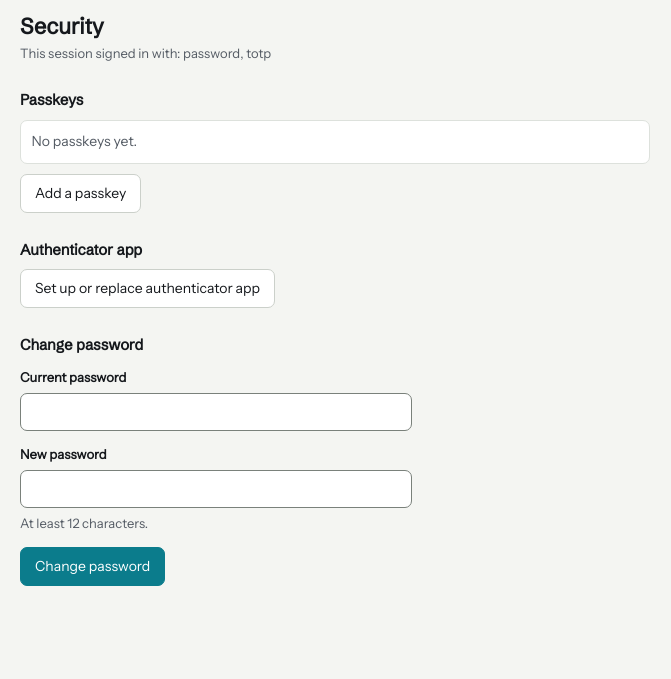
Test: gives focus back to the button that asked for re-authentication when the prompt is cancelled
Click the button "Set up or replace authenticator app": point(148, 289) [20,269,275,308]
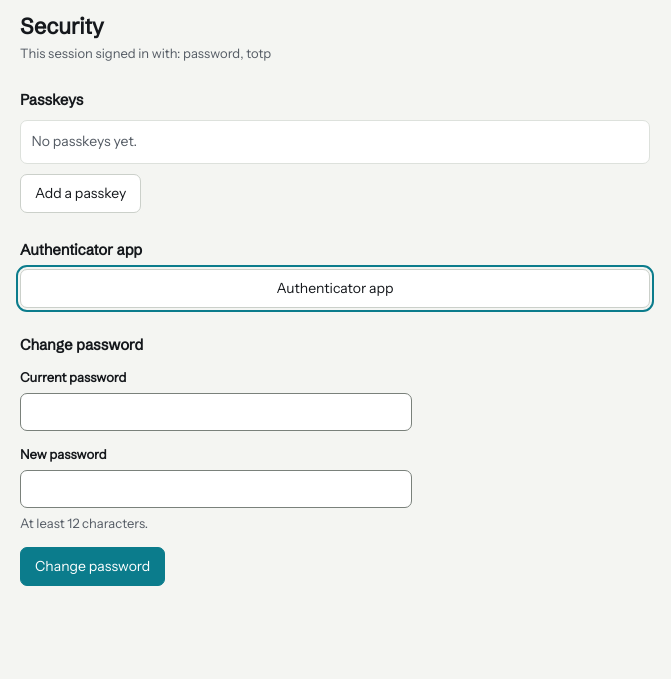
Click the button with test id "totp-start": point(335, 289) [20,269,650,308]
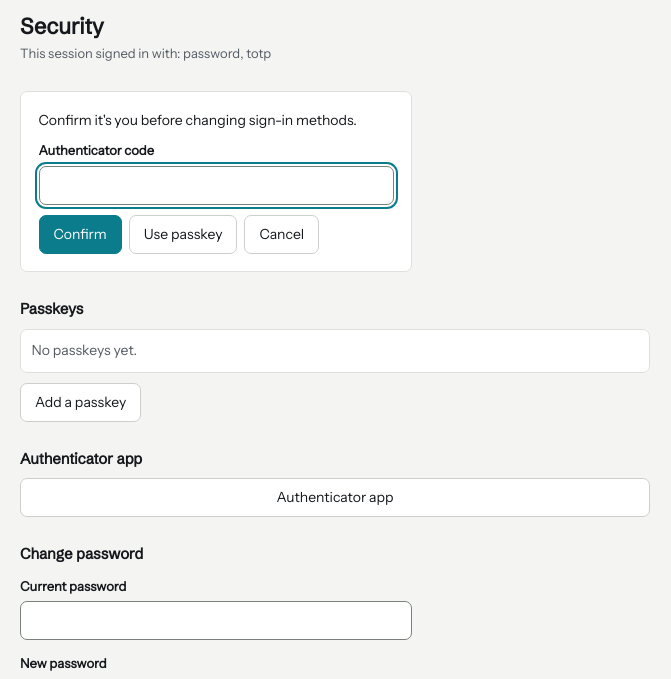
Result: the form "Confirm it's you" is shown at [20,91,412,272]
Click the button "Cancel": point(282, 234) [244,215,319,254]
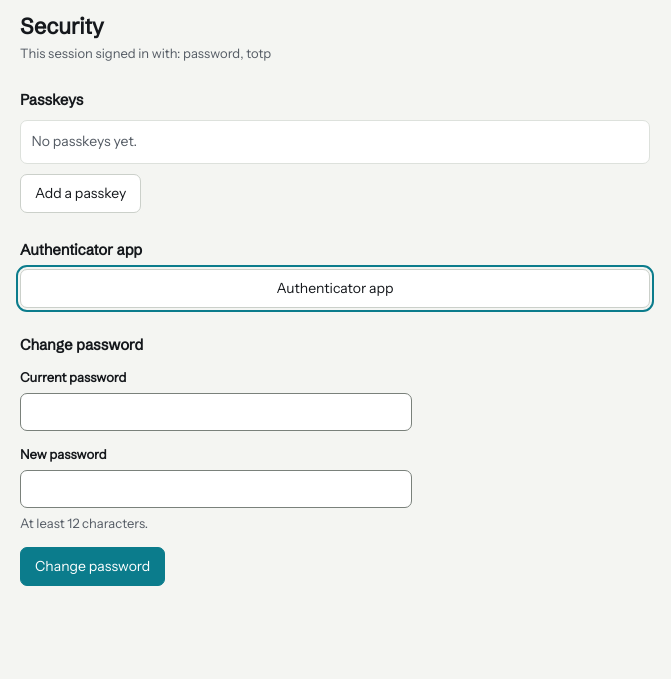
Result: the text "Confirm it's you" is gone
